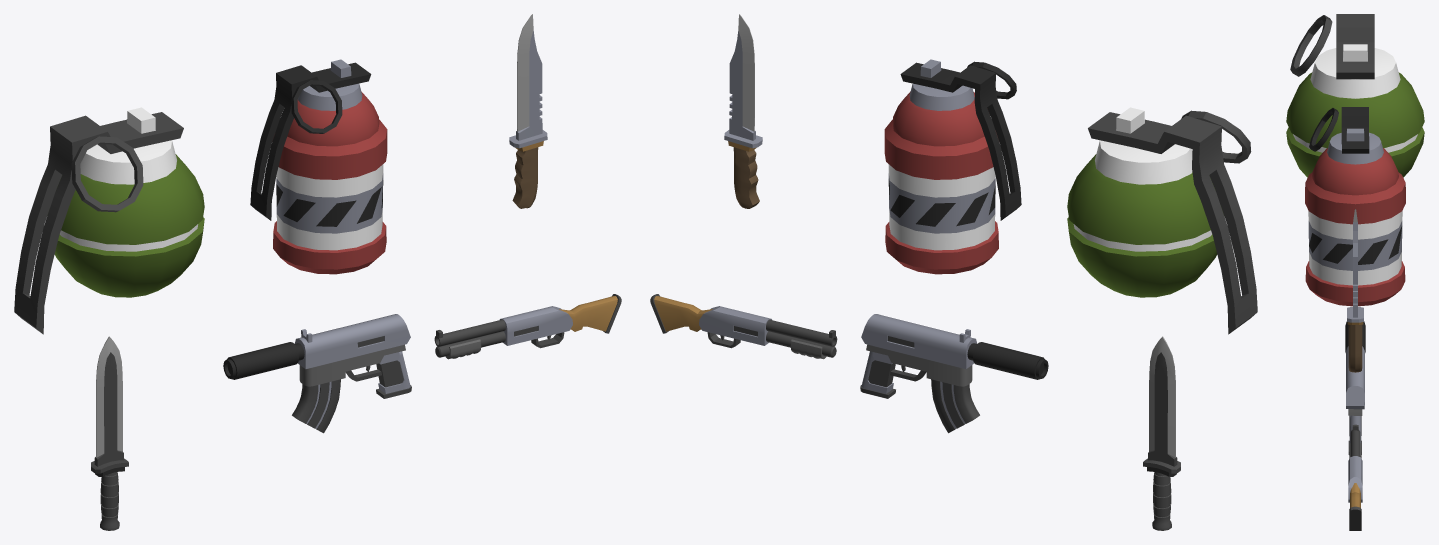
The picture shows the model from 3 angles, left to right: view 1: azimuth 30°, elevation 25°; view 2: azimuth 150°, elevation 25°; view 3: azimuth 270°, elevation 25°; orthographic projection. The views are drawn at different scales.
Visible parts, largest first — view 1: m0, m1, m4, m5, m3, m2; view 2: m0, m1, m4, m5, m3, m2; view 3: m1, m0, m2, m4, m5.
Boxes of the visible parts, x1,y1,x2,y2 form: m0: (14, 107, 204, 334); m1: (250, 59, 387, 274); m4: (223, 314, 411, 433); m5: (434, 294, 621, 359); m3: (91, 336, 128, 530); m2: (509, 14, 547, 208); m0: (1067, 107, 1257, 334); m1: (884, 59, 1021, 274); m4: (860, 314, 1048, 433); m5: (650, 294, 837, 359); m3: (1143, 336, 1180, 530); m2: (724, 14, 762, 208); m1: (1305, 107, 1405, 306); m0: (1286, 14, 1424, 177); m2: (1347, 209, 1363, 372); m4: (1345, 321, 1365, 454); m5: (1348, 424, 1362, 530).
Size of the model in its own units: 3.27 by 2.15 by 0.7584.
